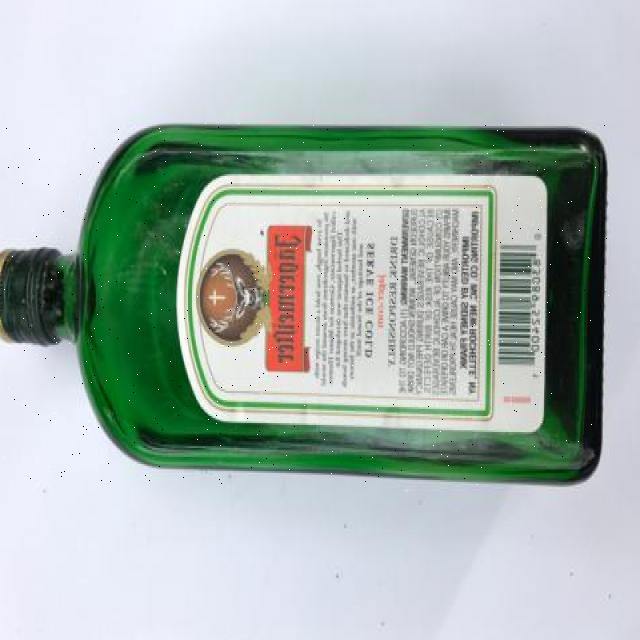glass: (0, 123, 610, 485)
